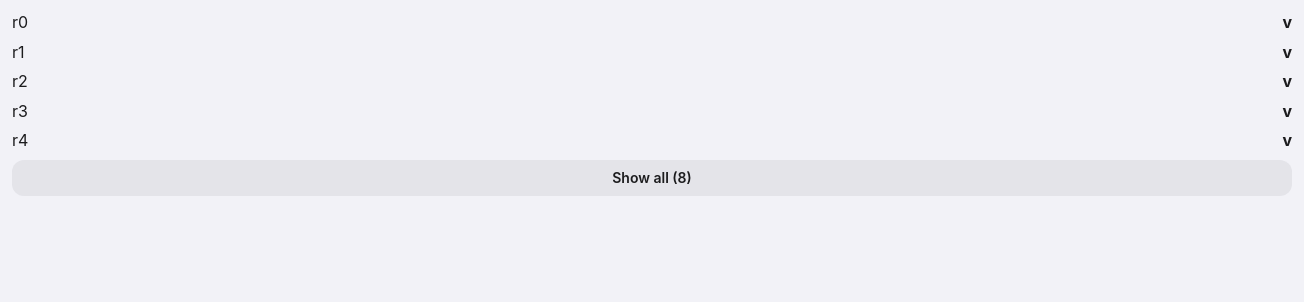
Test case: HistoryList › shows 5 then all
The width and height of the screenshot is (1304, 302).
Expected: the text "r5" is not shown
Click the button "Show all (8)" at (652, 178), box [12,160,1292,196]
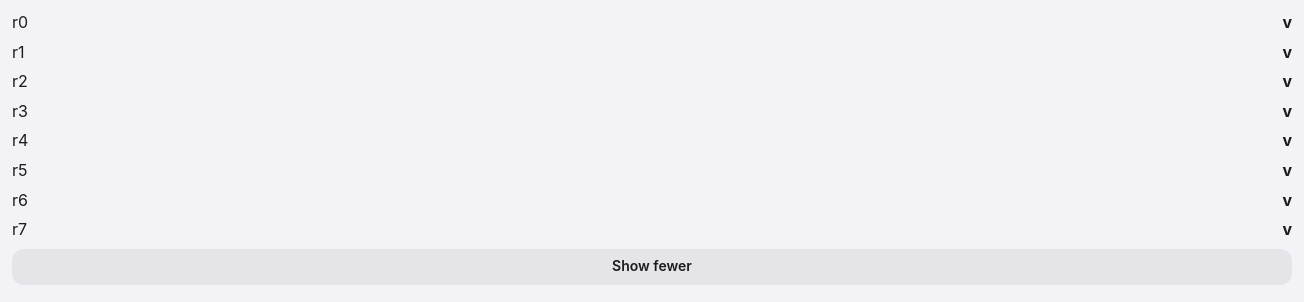
Now the text "r7" is shown, box [12,219,27,241]
